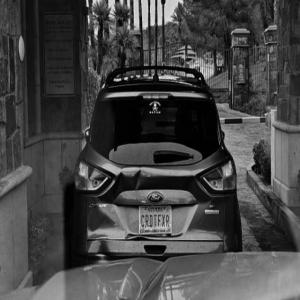Plate: (139, 205, 171, 234)
